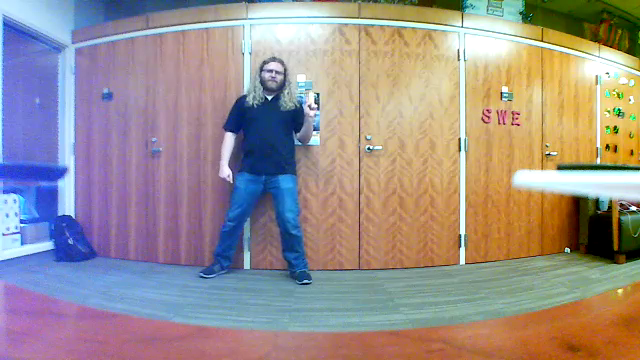up: (299, 82, 317, 123)
